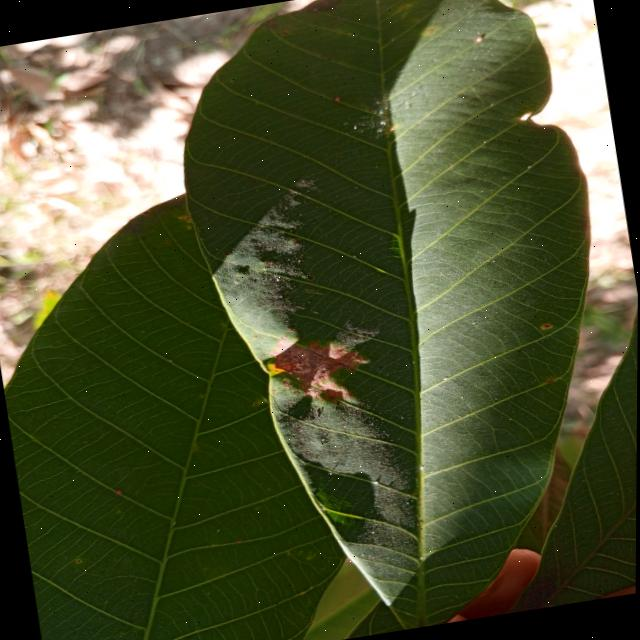Colletotrichum: (255, 402, 259, 407)
Leaf-Blight: (267, 327, 375, 412)
